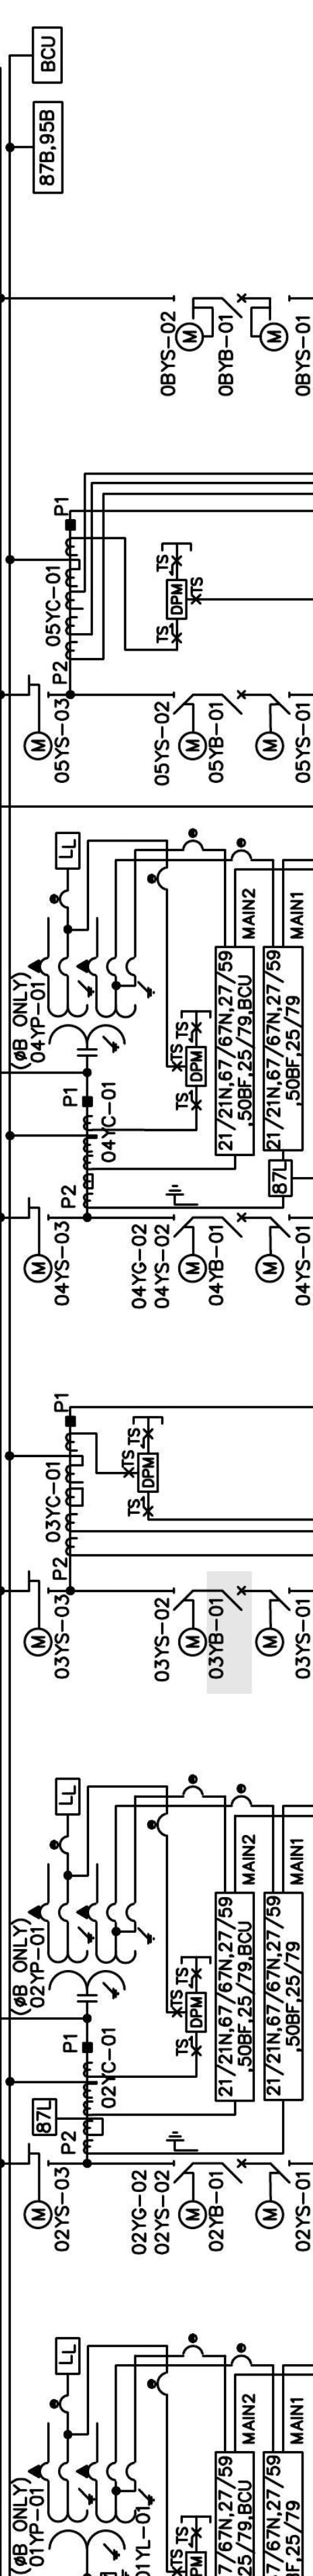115_1way_ds_w_motor: (166, 1557, 208, 1658), (23, 1569, 54, 1658), (23, 1196, 54, 1285), (23, 2142, 54, 2229), (23, 674, 54, 761), (254, 2159, 292, 2229), (254, 1587, 292, 1658), (254, 1214, 292, 1283), (172, 690, 208, 761), (254, 690, 290, 761), (172, 294, 215, 352), (249, 294, 292, 352)
115_3ways_ds_w_motor: (166, 2131, 208, 2229), (166, 1184, 208, 1283)
115_breaker: (221, 292, 247, 319), (221, 2159, 247, 2183), (221, 1585, 246, 1612), (221, 1212, 246, 1239), (221, 690, 246, 715)
115_cvt_1p: (26, 954, 156, 1058), (28, 1901, 156, 2003)
115_vt_1p: (28, 2461, 156, 2561)
BCU: (31, 26, 64, 84)
DPM: (185, 1991, 208, 2034), (166, 578, 188, 621), (138, 1452, 159, 1493), (185, 1046, 206, 1088)
LL: (54, 2336, 82, 2376), (54, 1778, 82, 1817), (54, 831, 80, 871)
